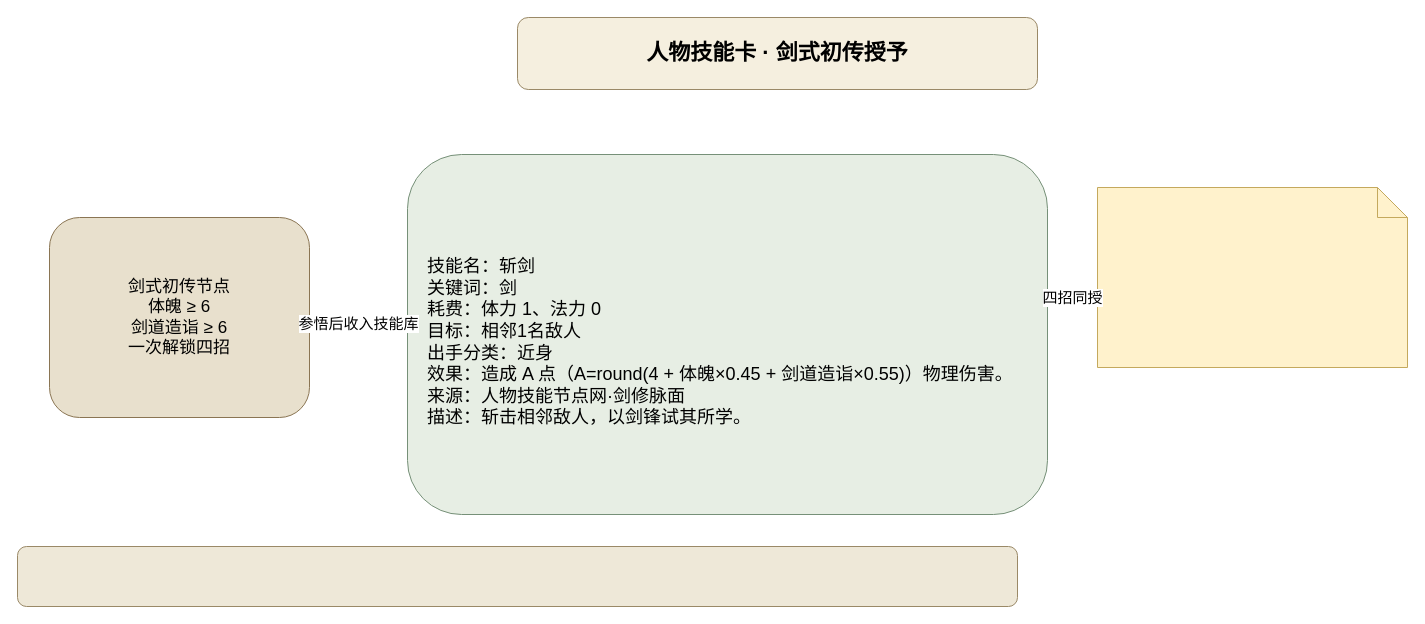
Some shapes in this 1425 by 624 pixel diagram are drawn without their labels. The shapes that lost their labels are listed below. From the top down, each one's box as (x1, y1, x2, y2) in pixels, then its label:
(1096, 186, 1408, 368): 同节点授予 斩剑、养锋、格剑、尽锋 参悟后收入技能库，需手动装配。
(16, 546, 1018, 606): 本图为详细版：效果后以括号列出公式；游戏内可设置简略／详细。
